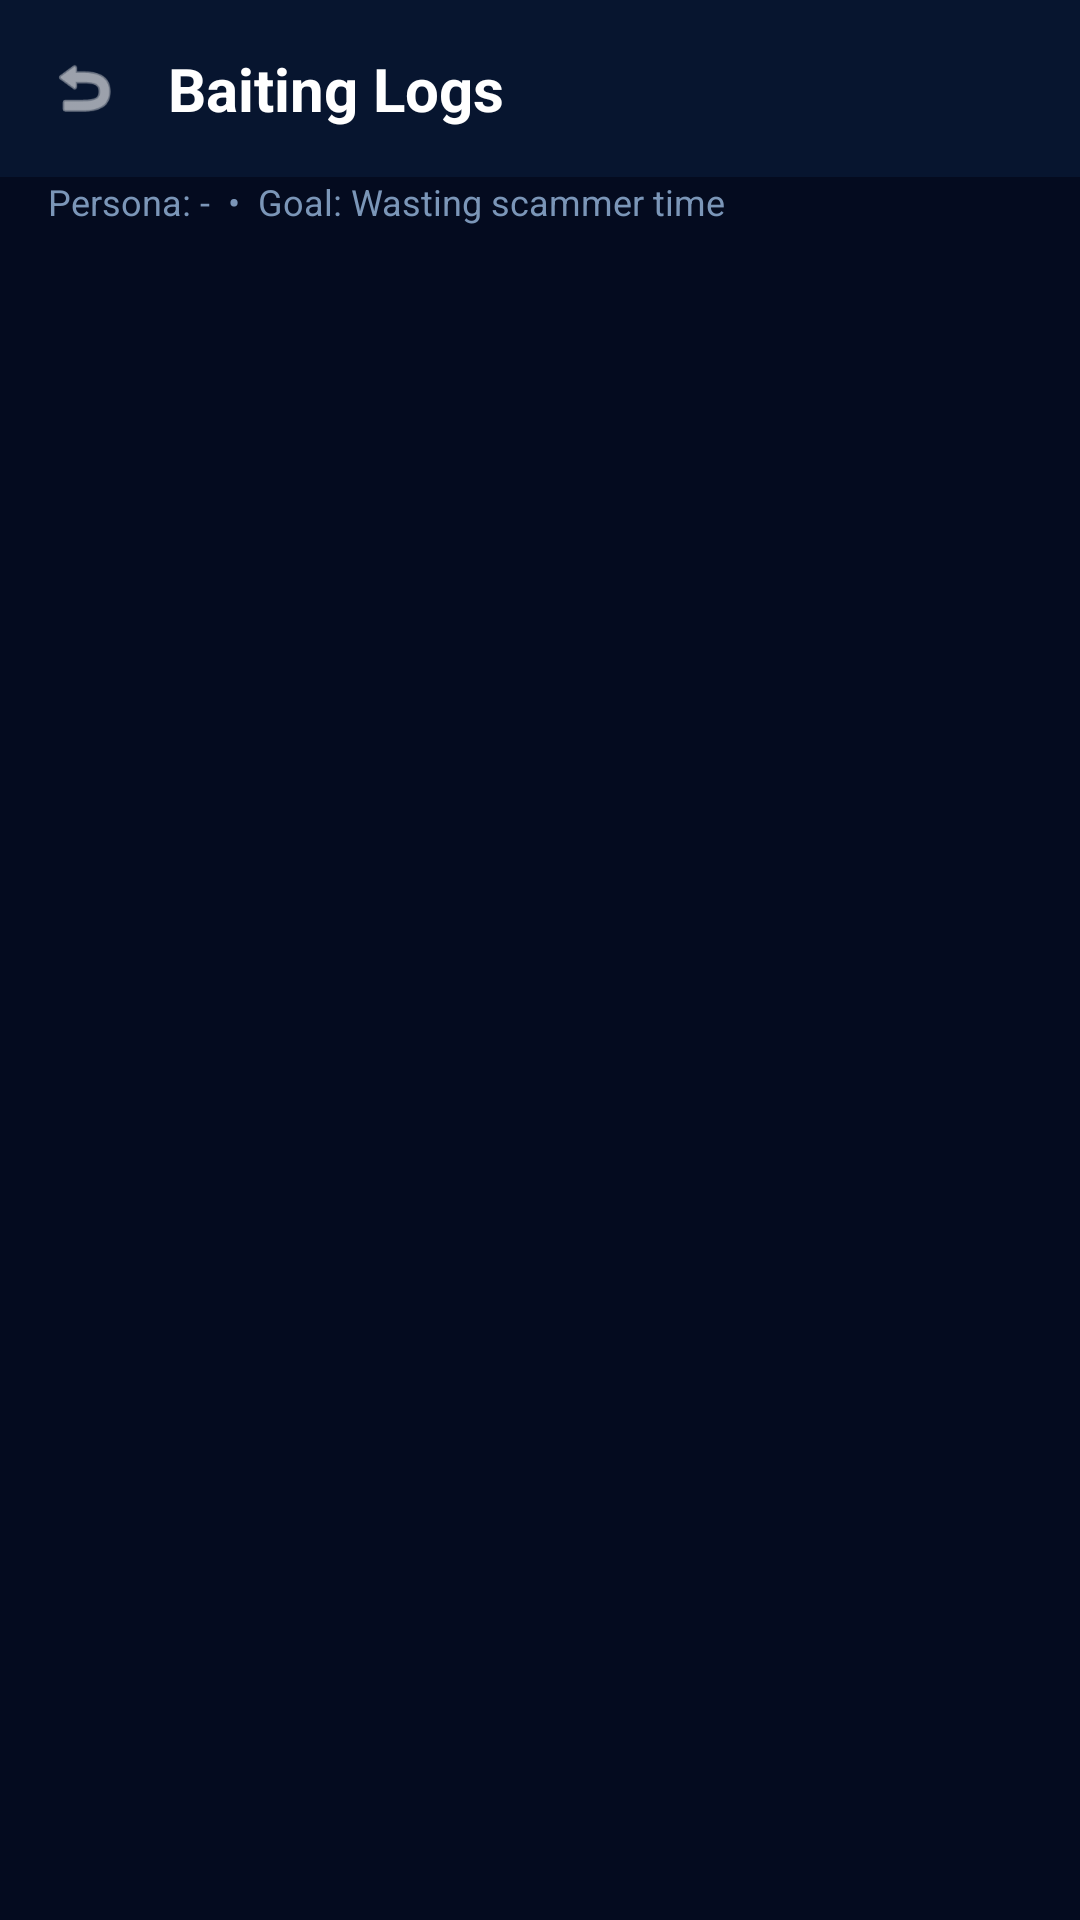

Icons on this 1080w x 1920h Android screen, each with its box as [x1,y1,x2,y2]:
Back: [59,65,111,112]
